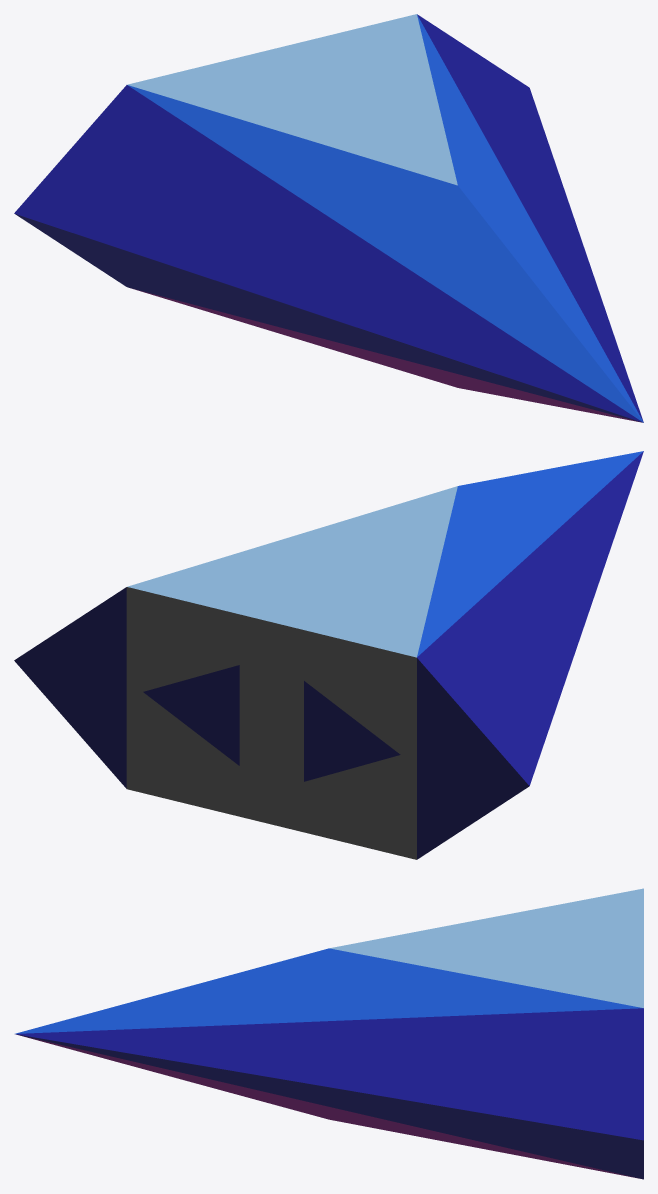
The model's file is arc_viper_patrol.glb.
The picture shows the model from 3 angles, top to bottom: view 1: azimuth 30°, elevation 25°; view 2: azimuth 150°, elevation 25°; view 3: azimuth 270°, elevation 25°; orthographic projection. The views are drawn at different scales.
Visible parts, largest first — view 1: griff_arcelite_viper; view 2: griff_arcelite_viper, griff_arcelite_viper.001, griff_arcelite_viper.002; view 3: griff_arcelite_viper.
Part boxes in pixels (x1,y1,x2,y2): griff_arcelite_viper: (14,14,643,422); griff_arcelite_viper: (14,451,643,859); griff_arcelite_viper.001: (143,665,239,765); griff_arcelite_viper.002: (304,681,400,781); griff_arcelite_viper: (15,888,643,1179).
Bounding box in the file's own units: 0.4448 × 0.1668 × 0.556.
1 material, 1 textured.
